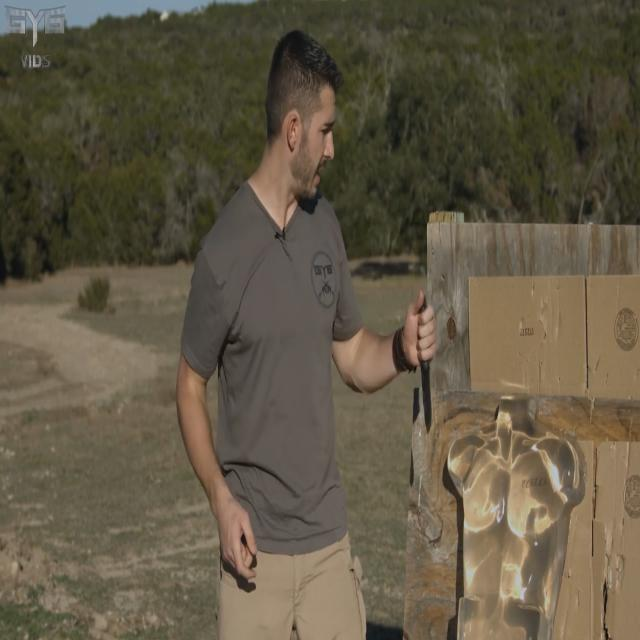knife: (419, 358, 437, 436)
